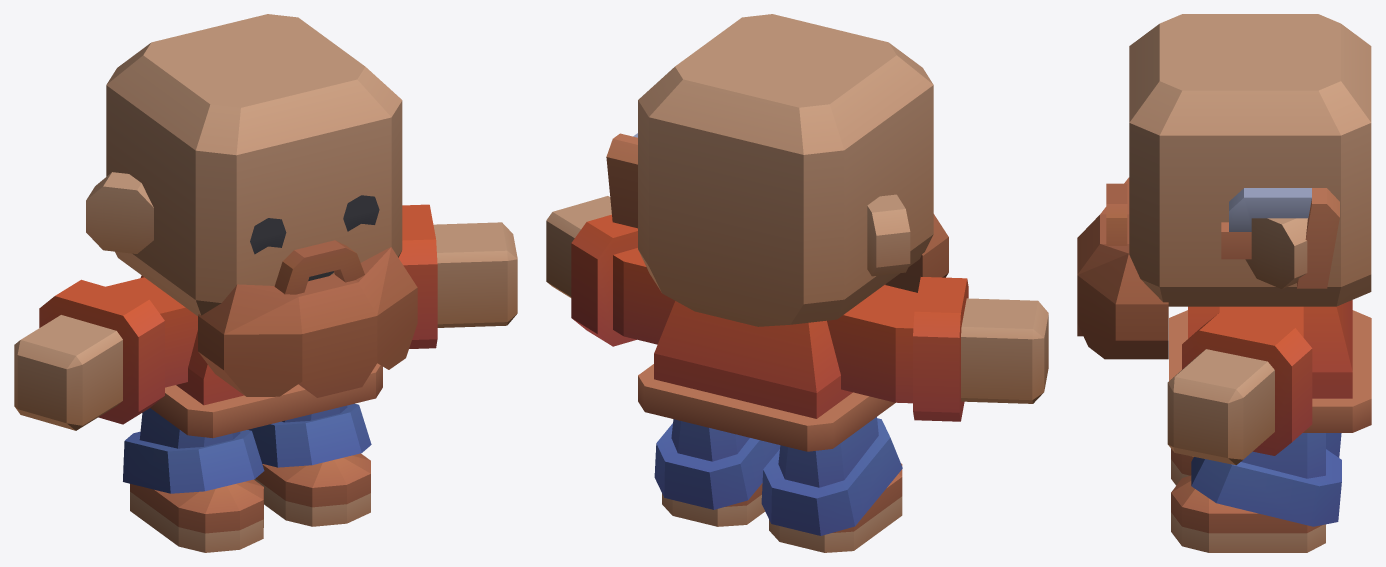
File: citizen-male-b.glb
3 views of the same model, side by side, from view 1: azimuth 30°, elevation 25°; view 2: azimuth 150°, elevation 25°; view 3: azimuth 270°, elevation 25° (orthographic).
Visible parts, largest first — view 1: citizen-male-b; view 2: citizen-male-b; view 3: citizen-male-b.
Part boxes in pixels (left/top/right/bottom): citizen-male-b: left=14, top=14, right=517, bottom=552; citizen-male-b: left=546, top=14, right=1048, bottom=552; citizen-male-b: left=1077, top=14, right=1371, bottom=552.
Bounding box in the file's own units: 1.16 × 1 × 0.589.
